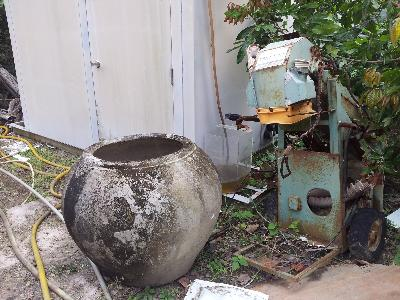bowl: (61, 132, 223, 288)
